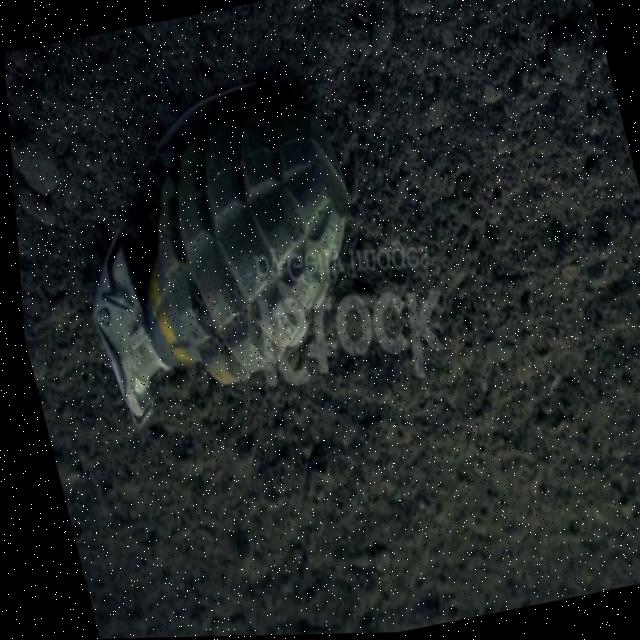grenade: (18, 35, 413, 463)
